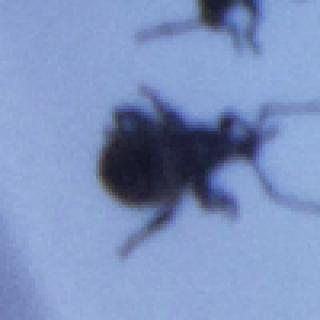bvw: (98, 85, 320, 259)
